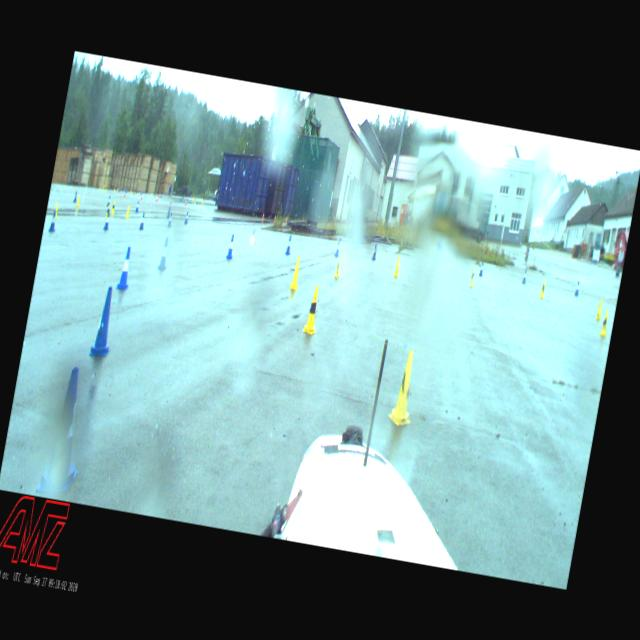blue_cone: (35, 362, 95, 498), (90, 285, 120, 356), (116, 244, 134, 288), (157, 237, 170, 270), (226, 233, 236, 260), (48, 210, 58, 232), (284, 234, 292, 255), (138, 212, 146, 230), (334, 238, 342, 256), (104, 210, 111, 230), (370, 243, 378, 260), (166, 212, 174, 228), (183, 209, 190, 224), (574, 280, 580, 296), (478, 260, 484, 276), (522, 268, 528, 284), (134, 200, 140, 212), (166, 206, 171, 218), (73, 190, 77, 202), (106, 195, 110, 206)
orange_cone: (284, 217, 288, 224), (184, 198, 187, 206), (169, 196, 172, 204), (155, 194, 158, 202), (140, 192, 143, 200), (123, 190, 126, 198), (273, 214, 276, 222), (262, 212, 265, 219)
yellow_cone: (387, 348, 422, 426), (302, 284, 324, 334), (289, 256, 303, 290), (333, 252, 344, 278), (600, 310, 610, 336), (594, 297, 604, 320), (393, 256, 401, 276), (468, 268, 476, 287), (540, 279, 546, 297), (110, 201, 116, 213), (54, 203, 58, 219), (106, 204, 110, 219), (126, 205, 130, 218), (76, 194, 80, 205)
